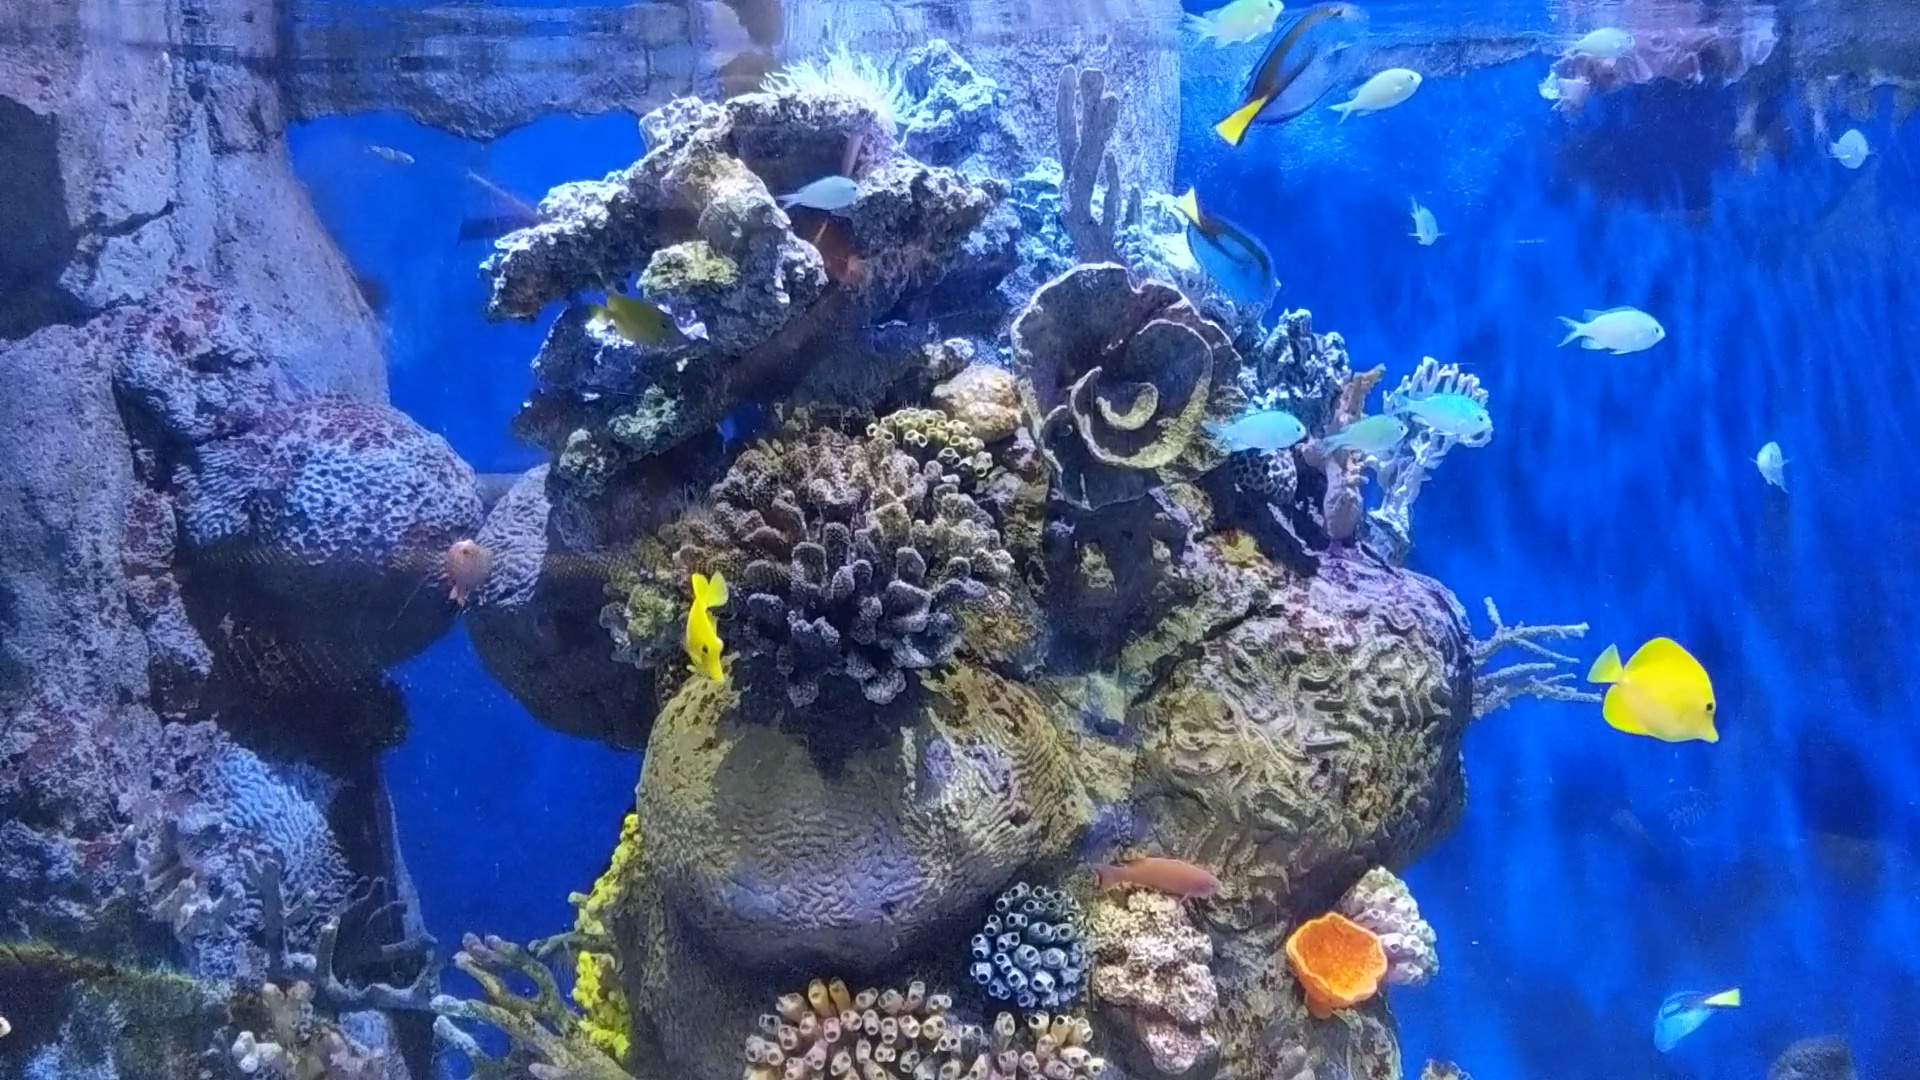blue tang surgeonfish: (1211, 0, 1377, 156), (1160, 171, 1311, 320), (1639, 978, 1751, 1062)
damselfish: (1553, 291, 1701, 388), (1386, 375, 1513, 448), (1189, 388, 1311, 462), (1538, 11, 1663, 80), (1327, 66, 1452, 133), (760, 164, 887, 224), (1312, 404, 1416, 469), (1174, 0, 1294, 57), (1720, 436, 1829, 489), (1400, 174, 1466, 261), (1805, 123, 1888, 182)
saddle butterfly fish: (1564, 620, 1743, 767), (645, 554, 781, 688), (578, 284, 715, 371)
